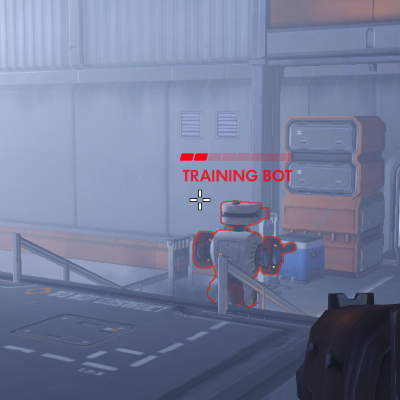hpbar: (179, 152, 294, 161)
